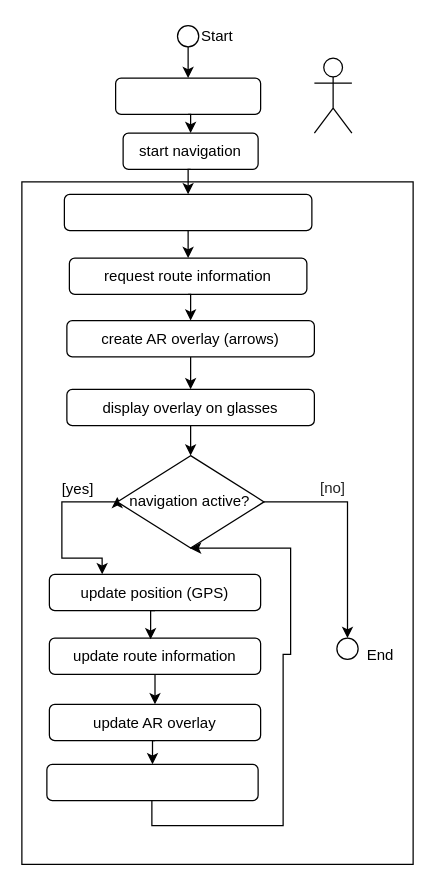
This 440x886 diagram has some shape labels left out. The centre of each missing label's shape, as x and y in pixels:
"Actor" goes at pixel 332 95.
"determine current position (GPS)" goes at pixel 187 212.
"display overlay" goes at pixel 152 782.
"enter destination" goes at pixel 187 95.
